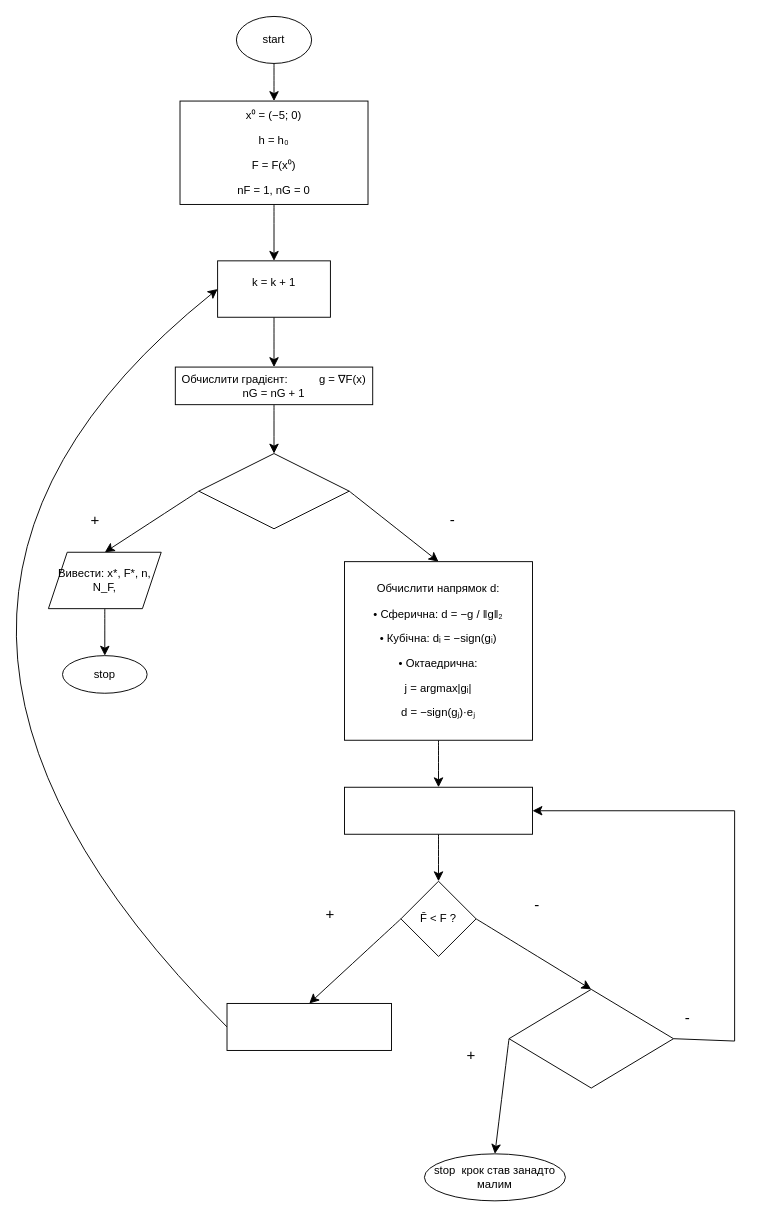
The diagram is 761 pixels wide and 1217 high, and some of its shapes have lost their labels. The centre of each missing label's shape, as x and y in pixels:
"h = h / 2 h < h_min ?" goes at (x=591, y=1038).
"x = x̄ F = F̄ (h залишається)" goes at (x=309, y=1026).
"x̄ = x + h · d F̄ = F(x̄) nF = nF + 1" goes at (x=438, y=810).
"‖g‖₂ ≤ ε ?" goes at (x=273, y=491).
